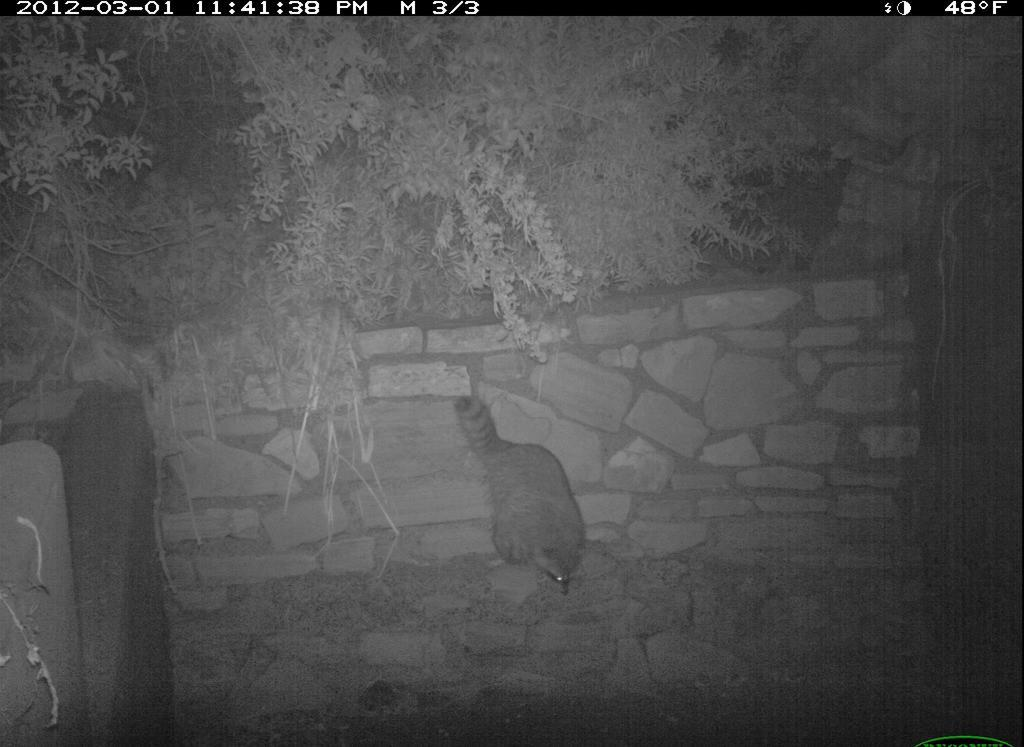raccoon: (437, 383, 612, 605)
